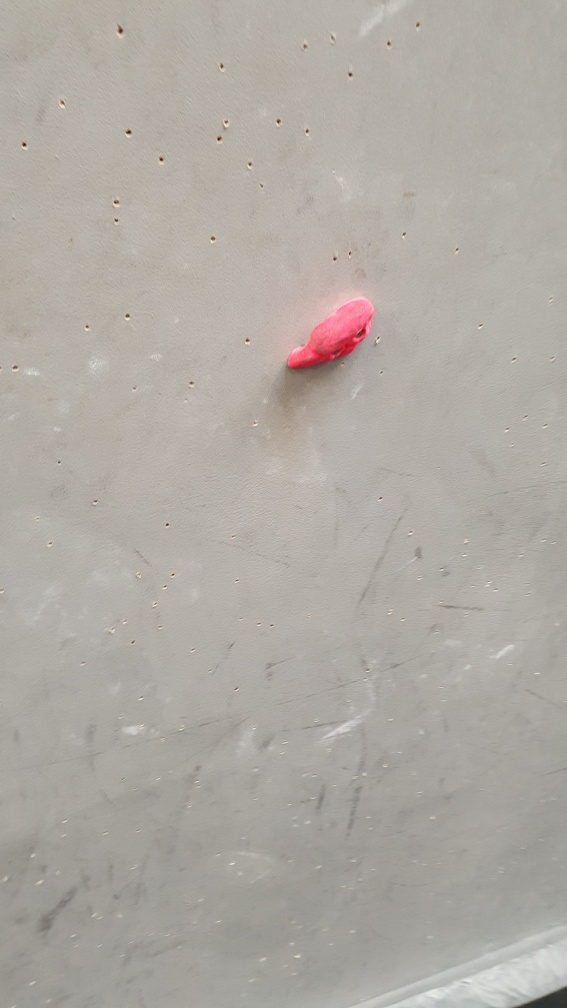Jug: (283, 295, 380, 375)
